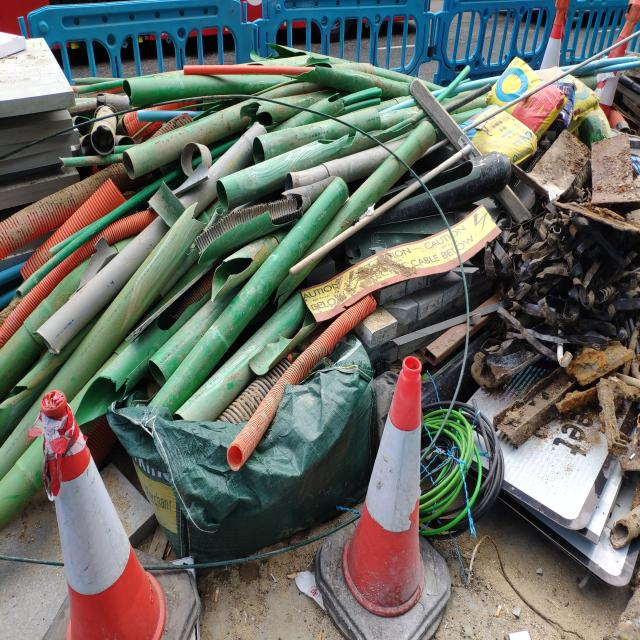entulho: (172, 114, 414, 403), (0, 164, 182, 412), (468, 201, 640, 385), (453, 64, 639, 220), (102, 47, 439, 110), (66, 101, 265, 200), (415, 400, 509, 533), (0, 31, 79, 167), (222, 358, 310, 470), (496, 370, 576, 446), (598, 373, 640, 476), (609, 503, 640, 551)
